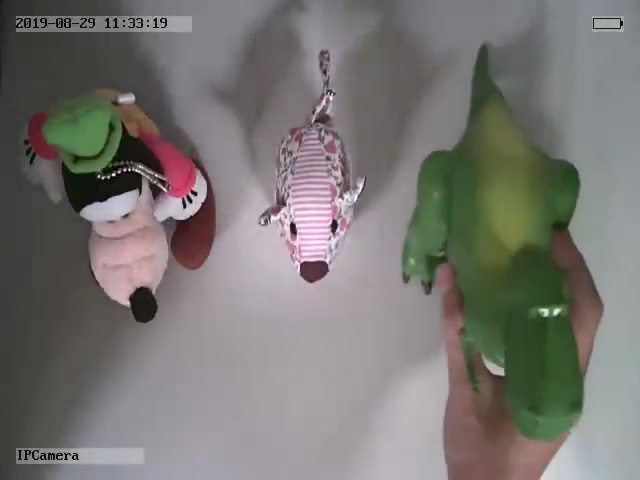goofy: (18, 86, 216, 325)
pig: (258, 47, 367, 284)
rex: (402, 42, 587, 442)
